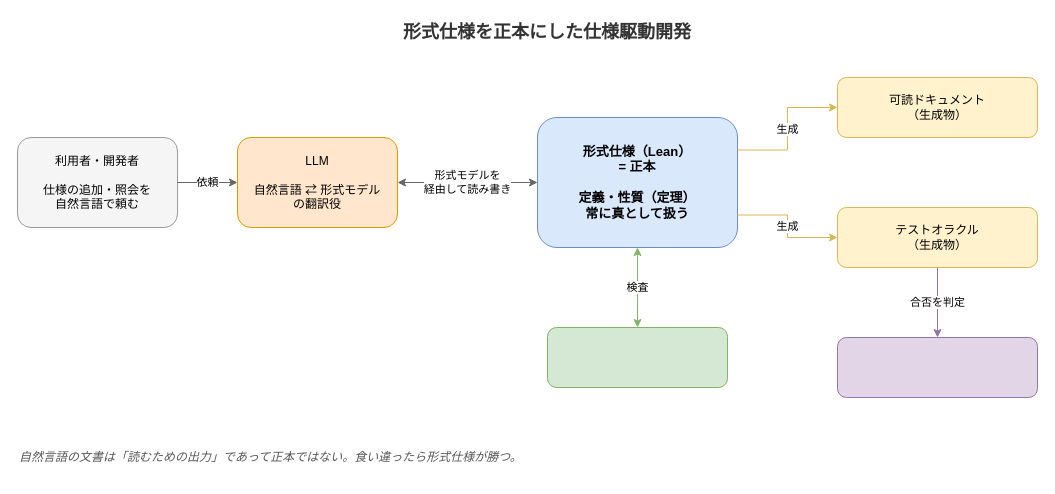
This 1055x494 diagram has some shape labels left out. Here are the shapes that lost their labels. From the top down, the centre of each, then its label:
At pixel 637 357: "Lean の検査器 型検査・証明の確認".
At pixel 937 367: "実装 生成されたテストを通るように書く".
